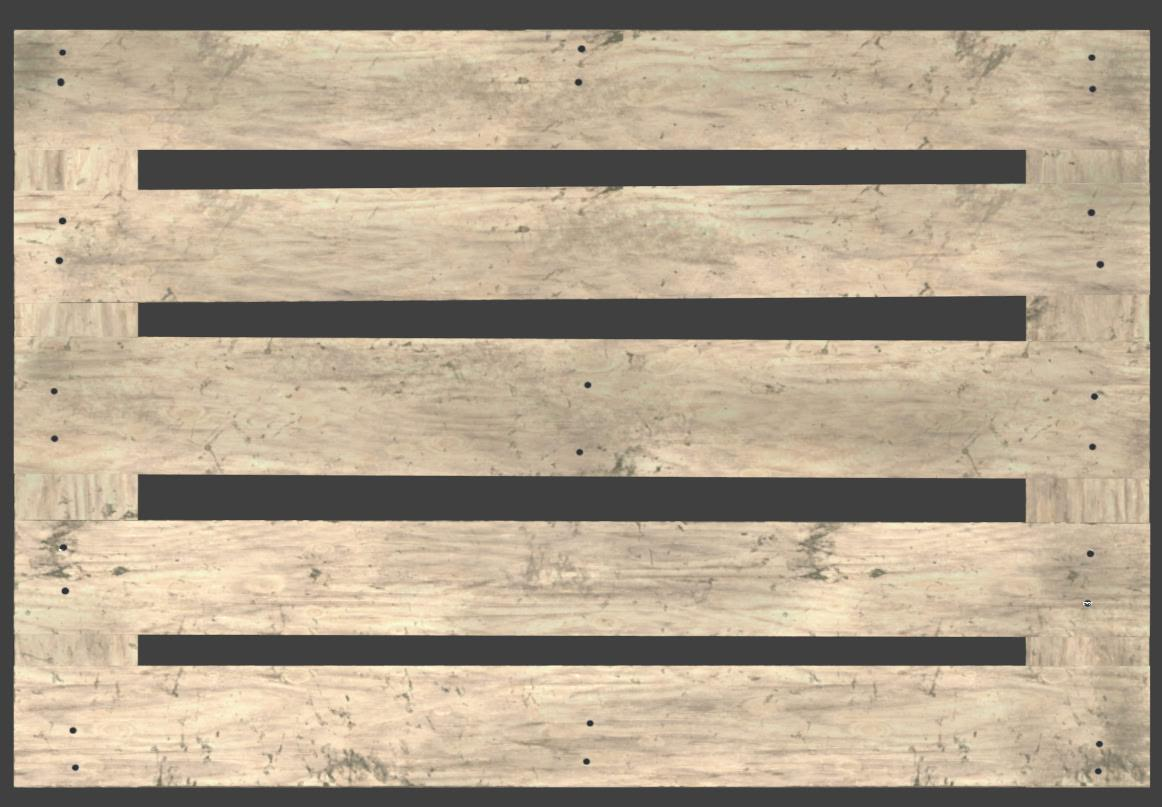palet: (10, 29, 1152, 792)
